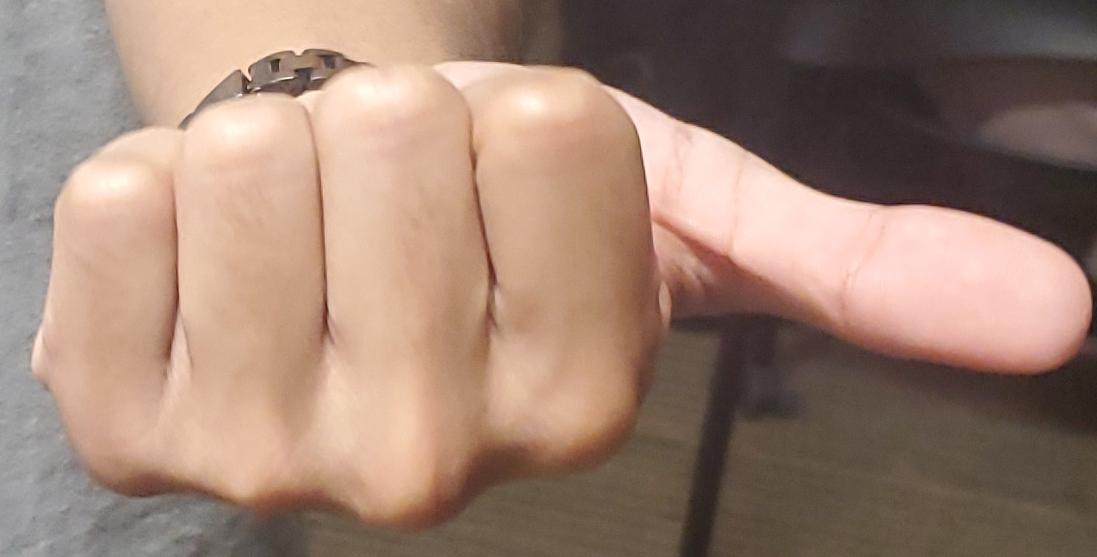left: (1, 0, 1097, 557)
